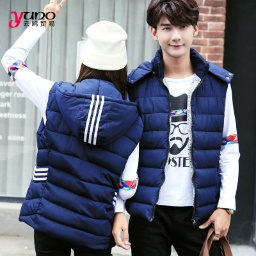face: (145, 2, 204, 59)
